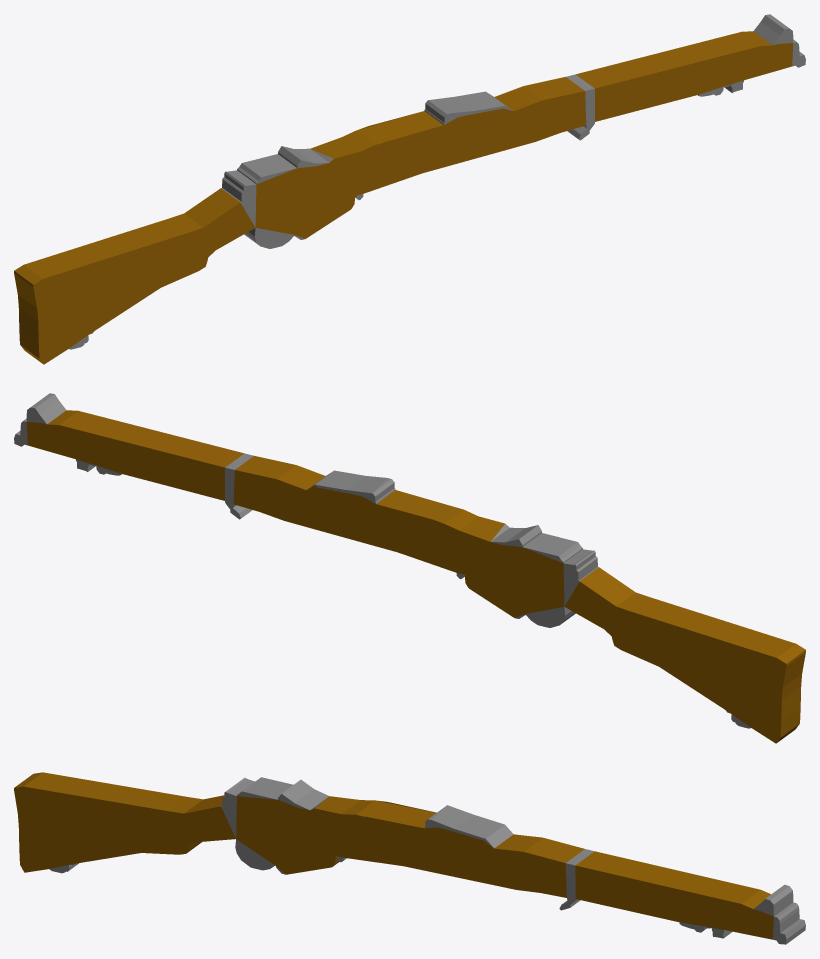
Rendered from GUNv3.fbx.
3 renders of one model, top to bottom at view 1: azimuth 30°, elevation 25°; view 2: azimuth 150°, elevation 25°; view 3: azimuth 330°, elevation 25°, orthographic.
Parts seen in each view (by area): view 1: Cube; view 2: Cube; view 3: Cube.
Part boxes in pixels (x1,y1,x2,y2): Cube: [14, 14, 805, 364]; Cube: [14, 393, 805, 743]; Cube: [14, 772, 805, 944].
Bounding box in the file's own units: 20 × 87.78 × 459.
